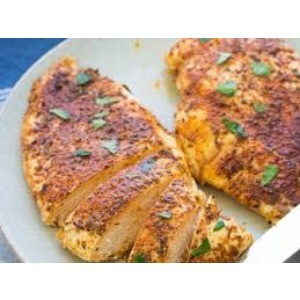chicken breast_brain food: (52, 106, 156, 245), (202, 74, 275, 178)
